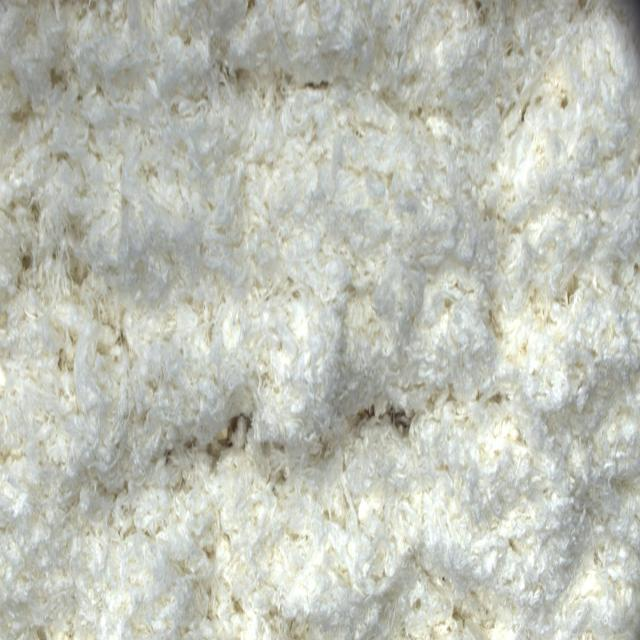dust: (386, 396, 418, 453), (208, 416, 256, 439)
